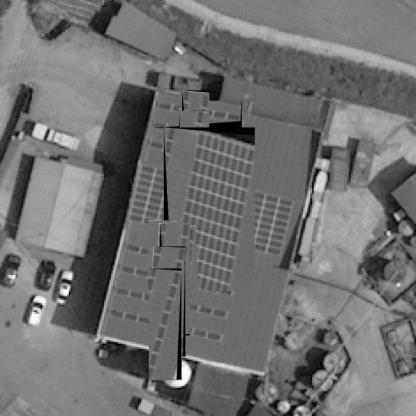solar-pv-panel: (170, 130, 255, 291), (149, 271, 181, 380), (155, 248, 185, 356), (168, 223, 190, 335), (154, 101, 241, 123), (182, 111, 205, 194), (189, 92, 209, 177), (148, 220, 172, 290)
